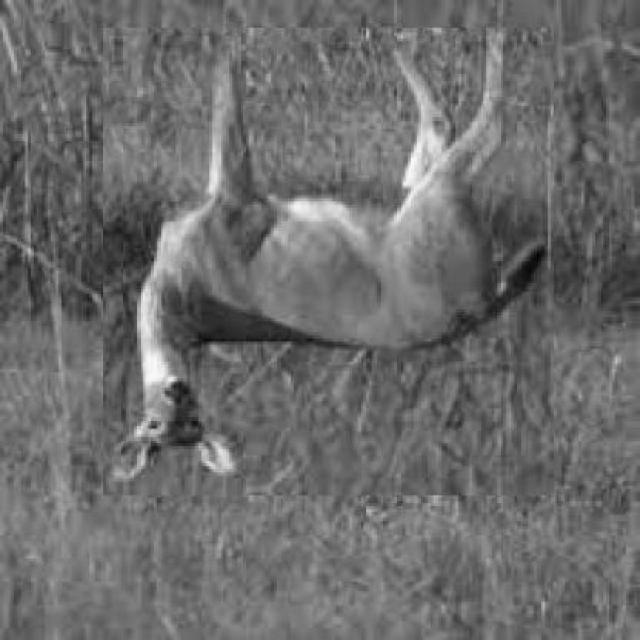Deer: (103, 28, 555, 496)
